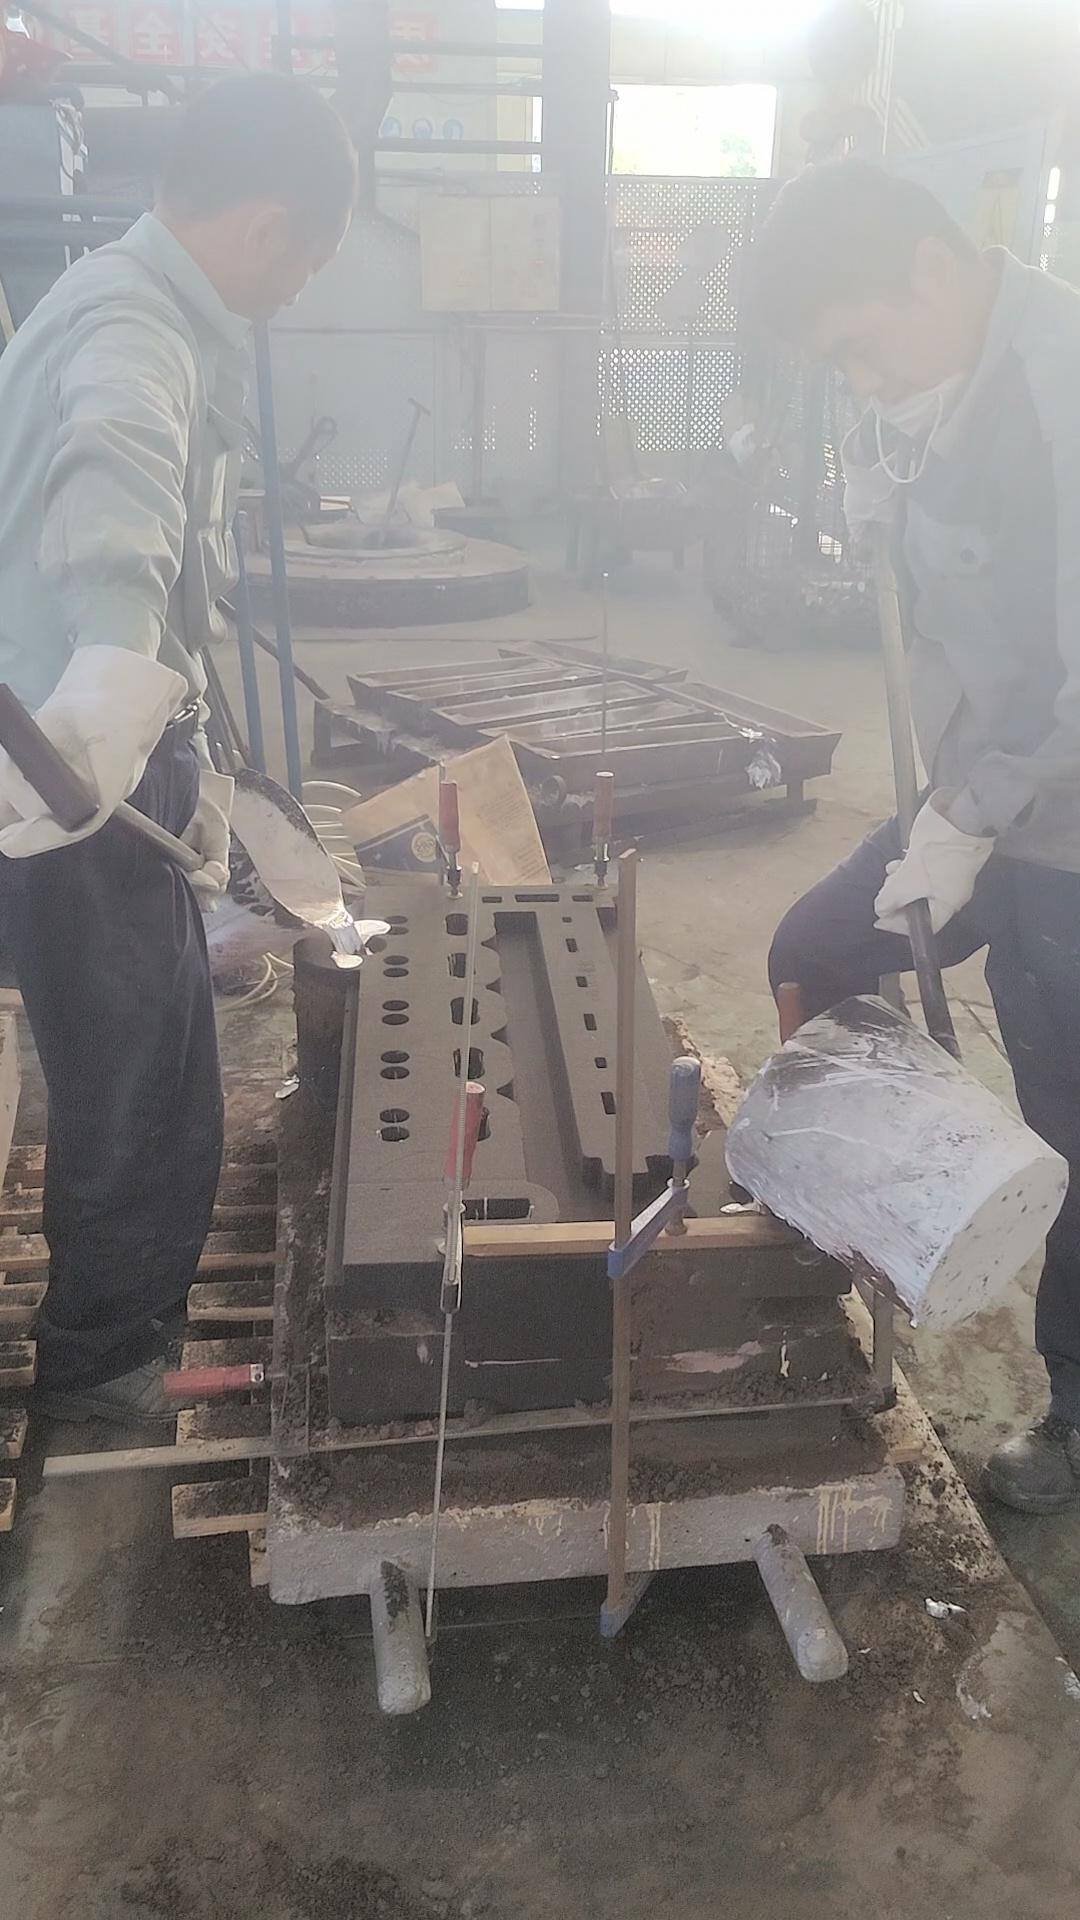pouring hole: (729, 1183, 787, 1220), (334, 931, 386, 956)
